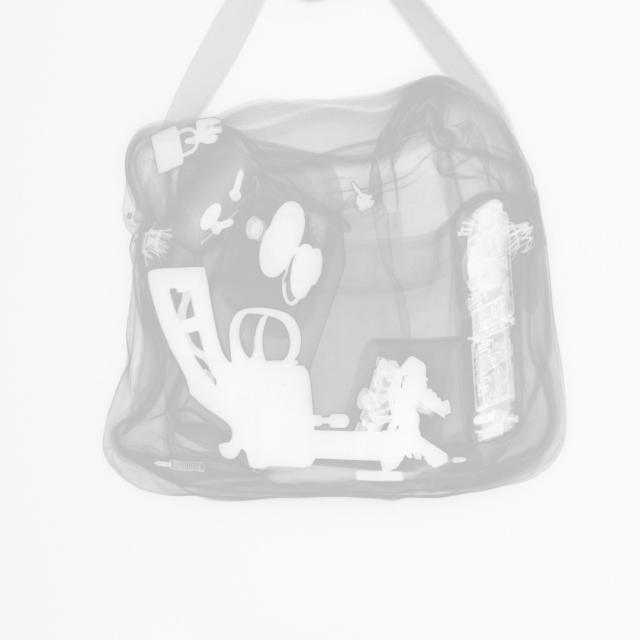pistol: (148, 266, 407, 472)
